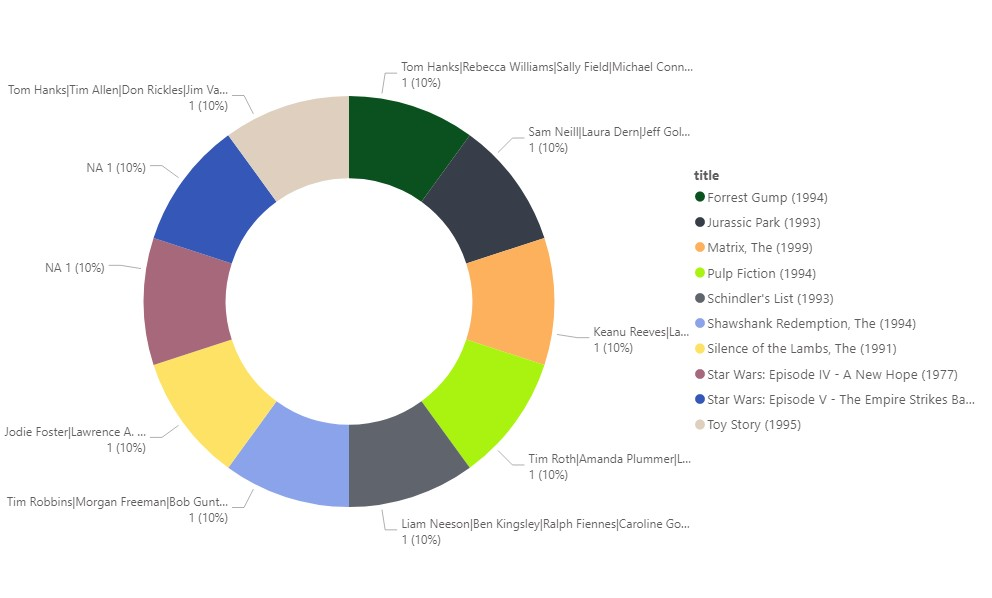

The dashboard page shown, as its layout file describes it:
{"tool":"powerbi","page":{"name":"movies and cast","canvas":[1280,720],"ordinal":3},"visuals":[{"type":"donutChart","fields":{"Category":["movies.title"],"Y":["movies.title"],"Series":["imdb_data.title_cast"]},"box":[10,0,280,280],"z":0}]}

Visuals, with their boxes on the page's 1280x720 design canvas (x1, y1, x2, y2). These are canvas units, not pixel positions in the 992x598 screenshot, which may show the page scaled, cropped or inside an application window:
donutChart - movies.title x movies.title: x1=10, y1=0, x2=290, y2=280
